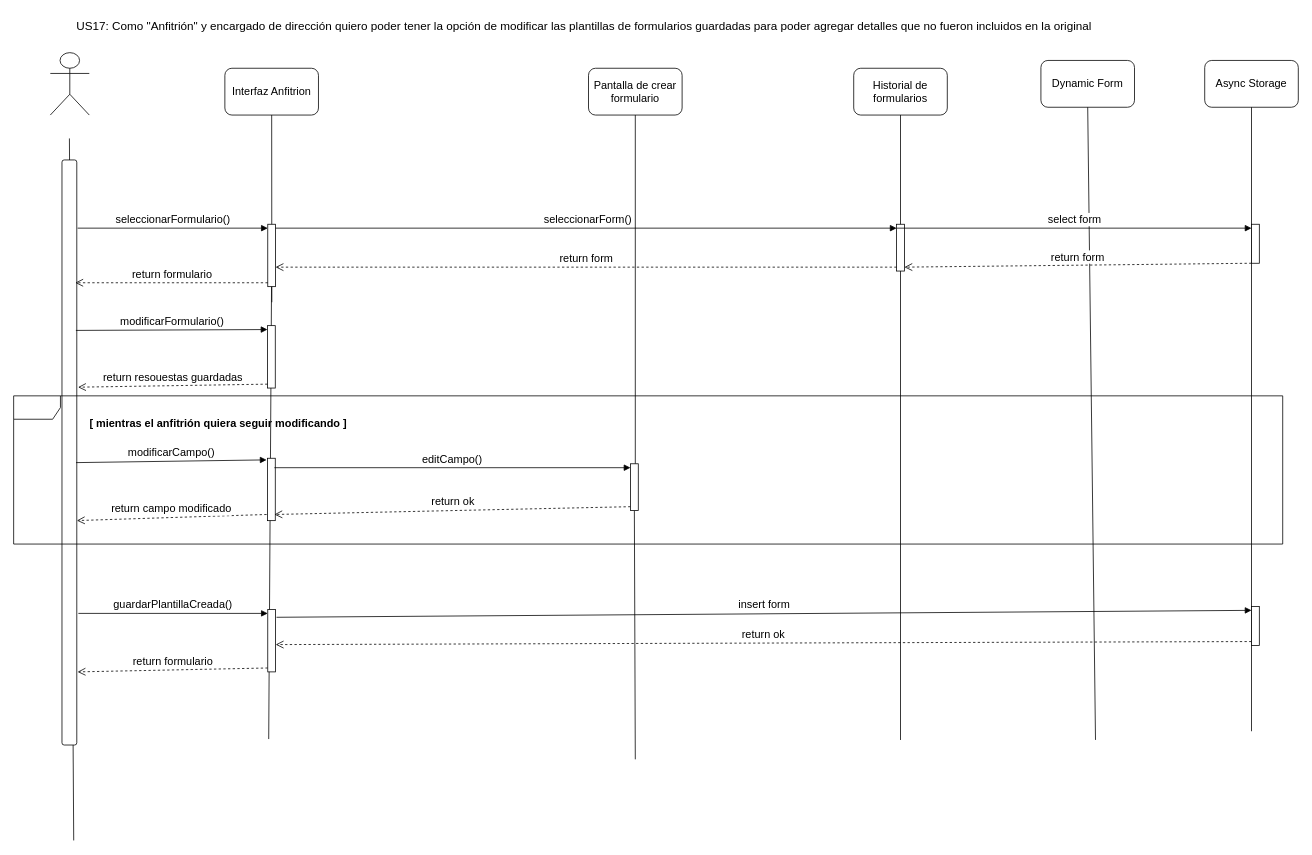
Some shapes in this 1312 by 855 pixel diagram are drawn without their labels. Each missing label, with the box of its shape:
Anfitrión: (50, 52, 89, 115)
Loop: (13, 395, 1283, 544)
